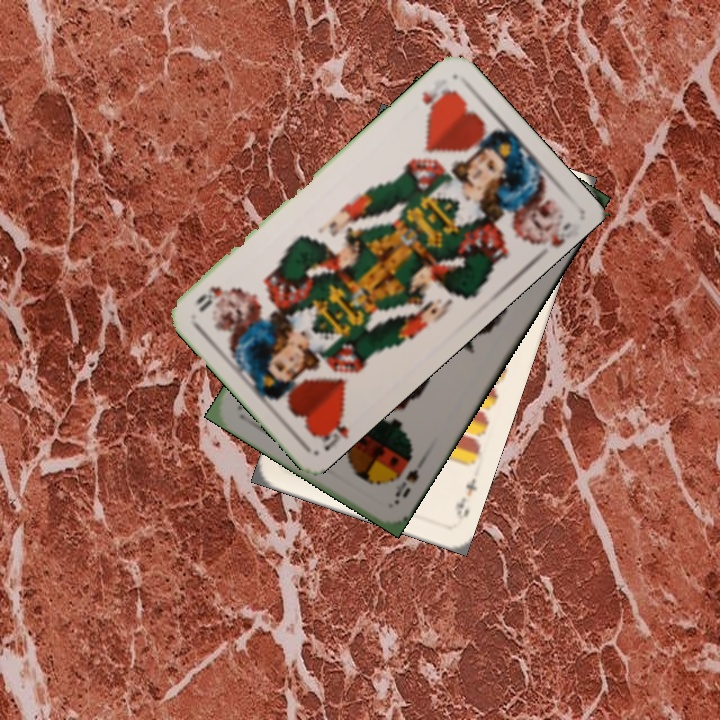E9: (451, 474, 480, 523)
HO: (310, 405, 351, 454), (418, 74, 457, 119)
SO: (390, 465, 422, 501)
